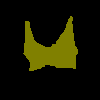reggiseno: (23, 16, 78, 71)
